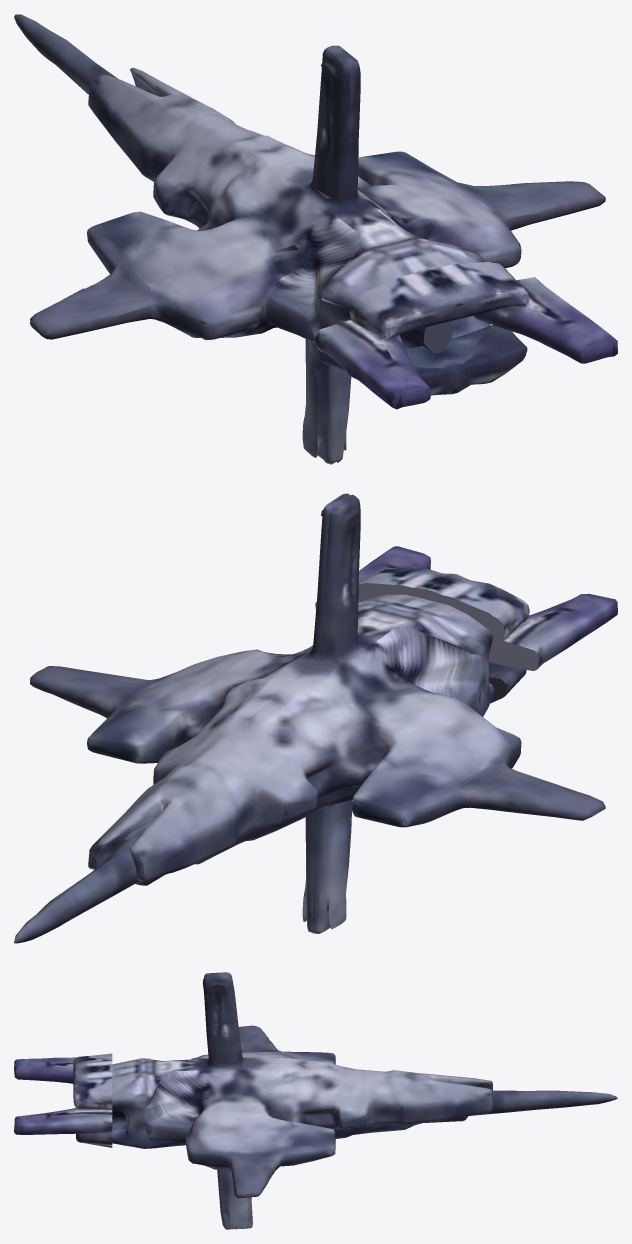
The model's file is phenom_scout.glb.
3 views of the same model, one above another, from view 1: azimuth 30°, elevation 25°; view 2: azimuth 150°, elevation 25°; view 3: azimuth 270°, elevation 25° (orthographic). The views are drawn at different scales.
Parts seen in each view (by area): view 1: phenom_scout; view 2: phenom_scout; view 3: phenom_scout.
Part boxes in pixels (left/top/right/bottom): phenom_scout: left=14, top=14, right=617, bottom=464; phenom_scout: left=14, top=493, right=617, bottom=943; phenom_scout: left=14, top=972, right=617, bottom=1229.
Bounding box in the file's own units: 0.1185 × 0.0835 × 0.1797.
Materials: 1 (1 with a texture image).
